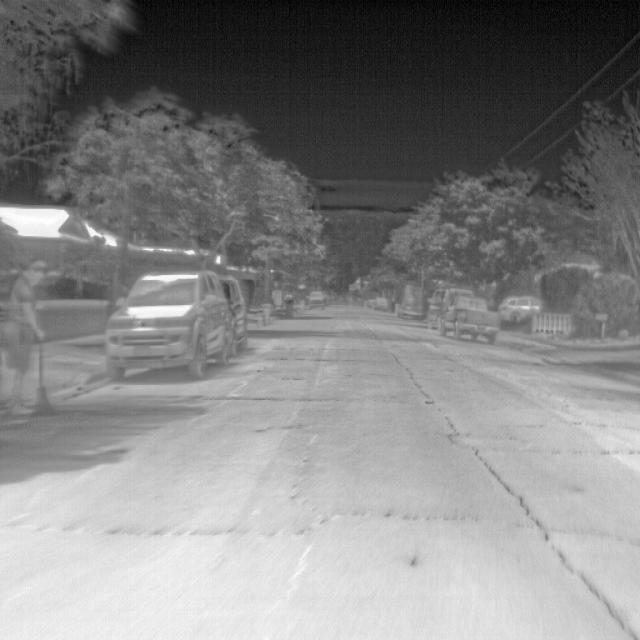Pedestrian: (1, 252, 51, 421)
Vehicle: (102, 265, 237, 383), (437, 291, 501, 345), (496, 295, 544, 326)
